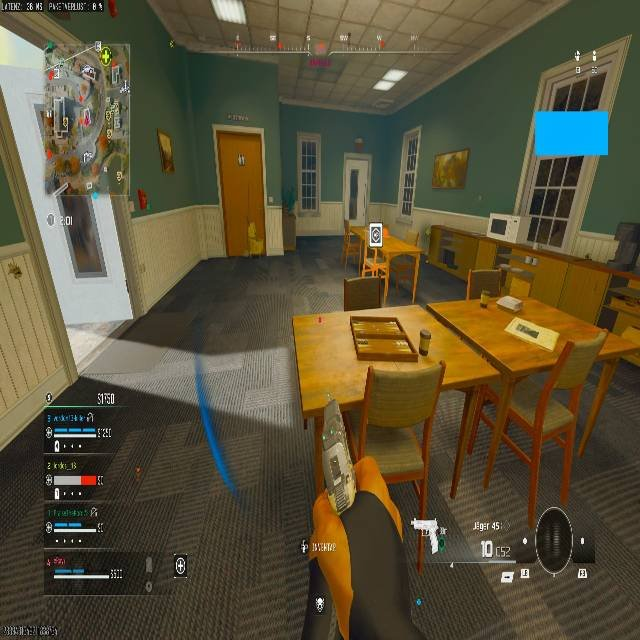player: (47, 137, 87, 247)
